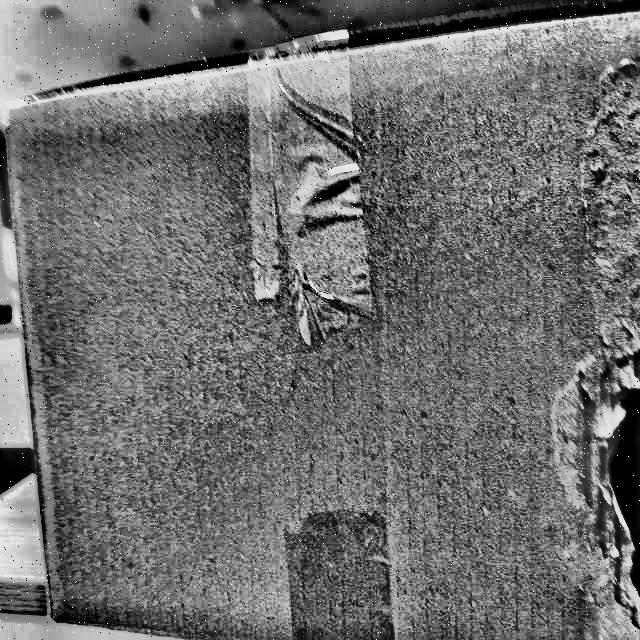box: (0, 0, 639, 639)
hole: (571, 337, 639, 630)
